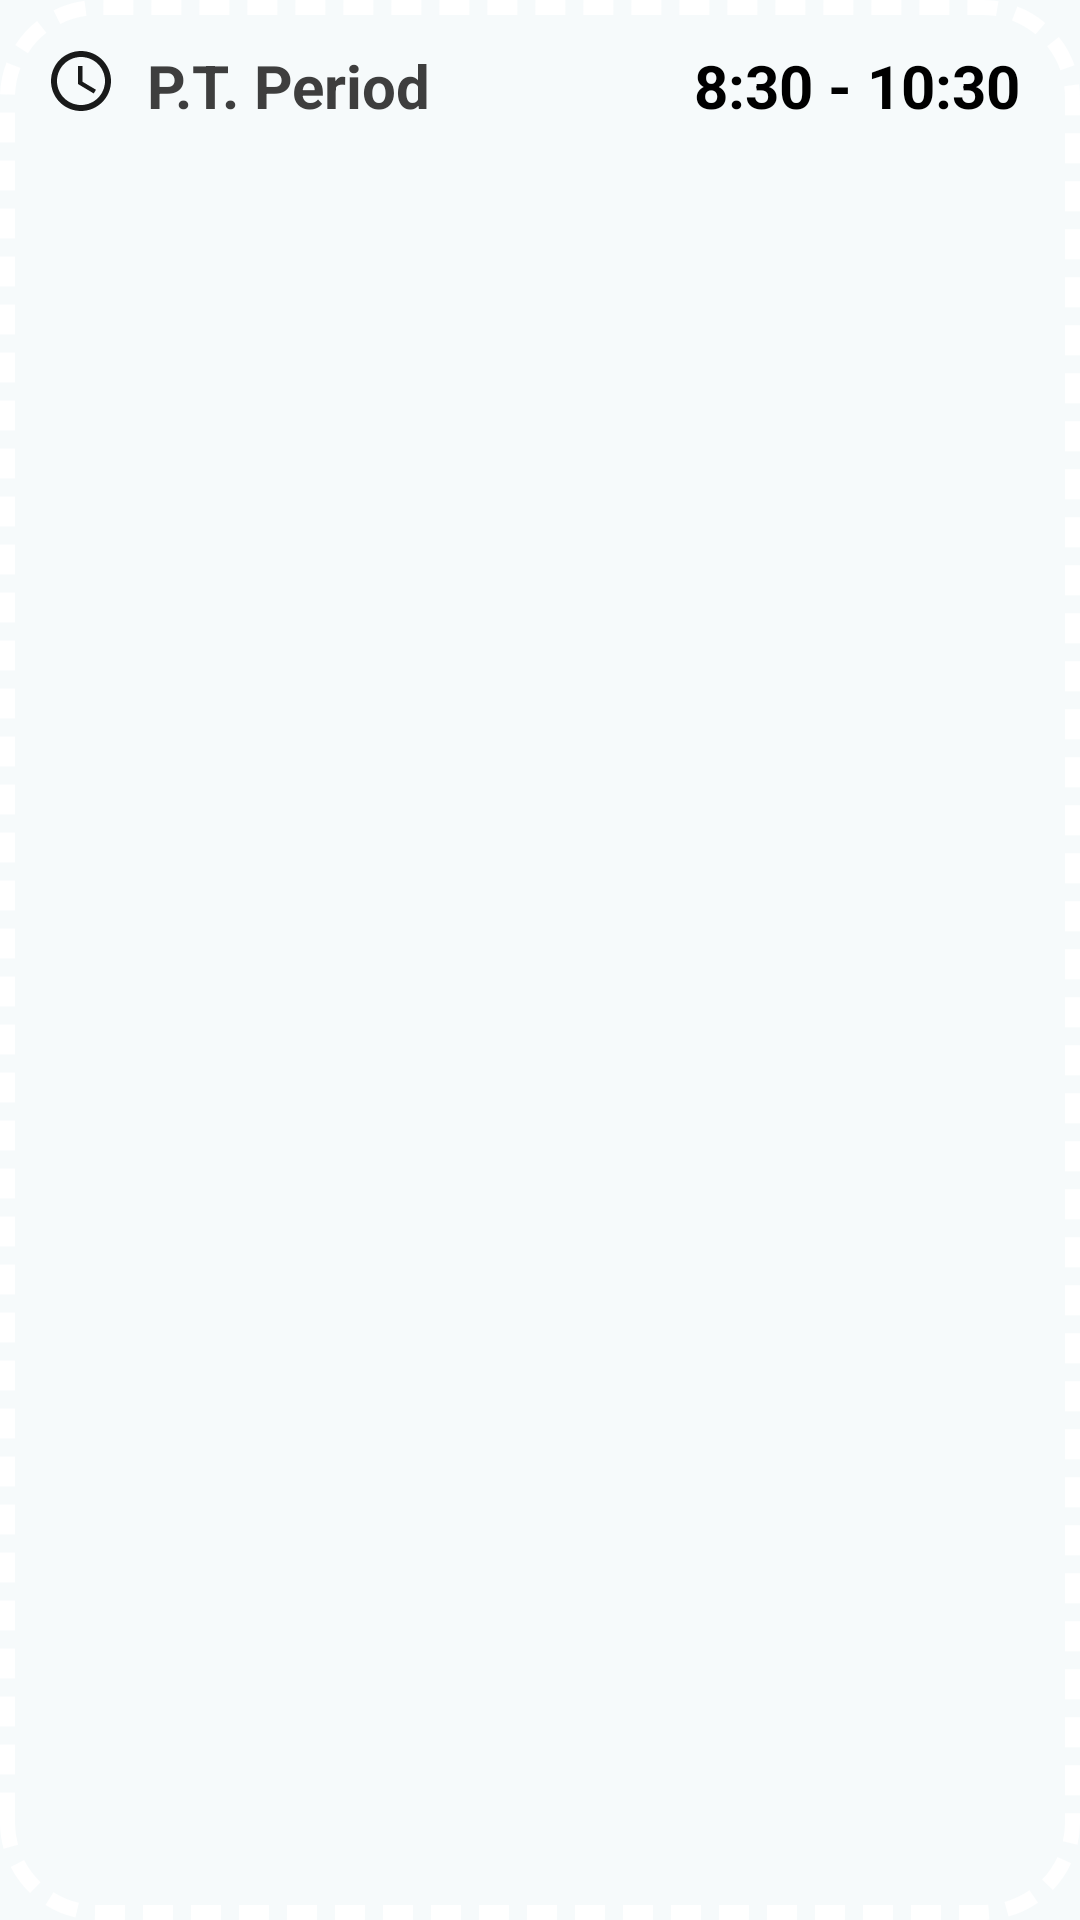

Icons on this 1080w x 1920h Android screen, each with its box as (x1, y1, x2, y2):
access time: (51, 51, 111, 111)
